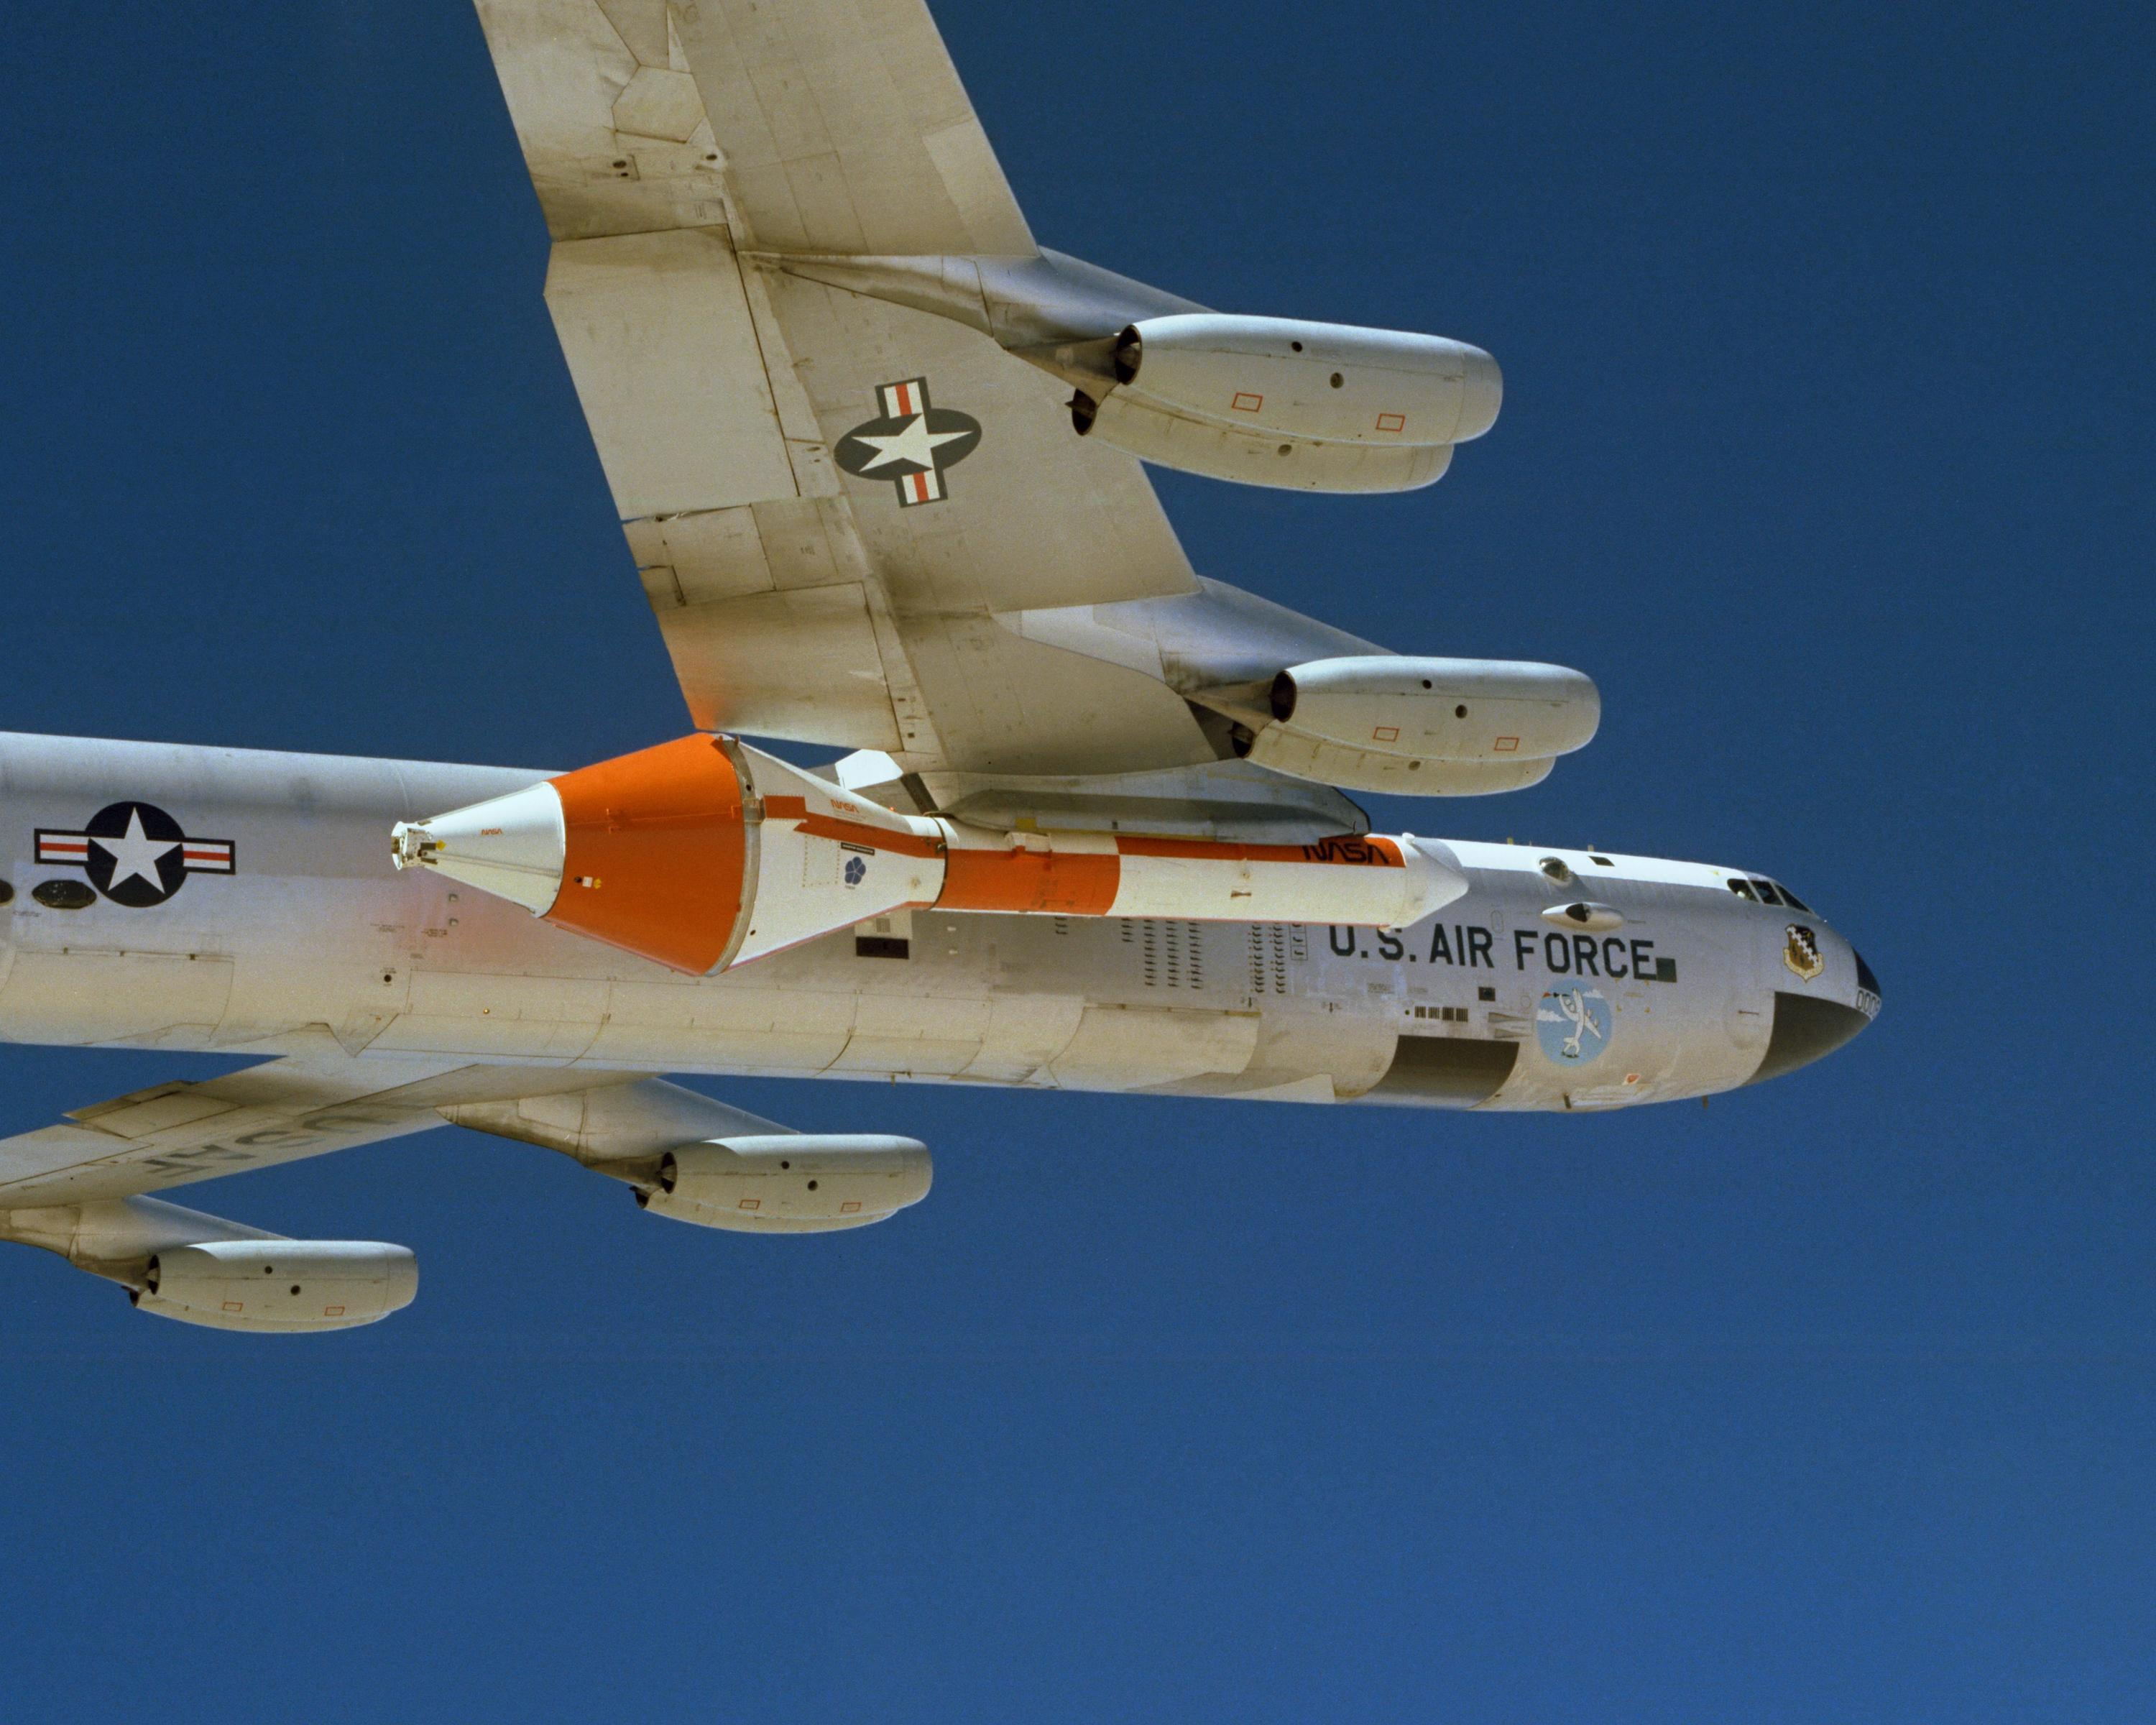B52: (0, 0, 1881, 1332)
